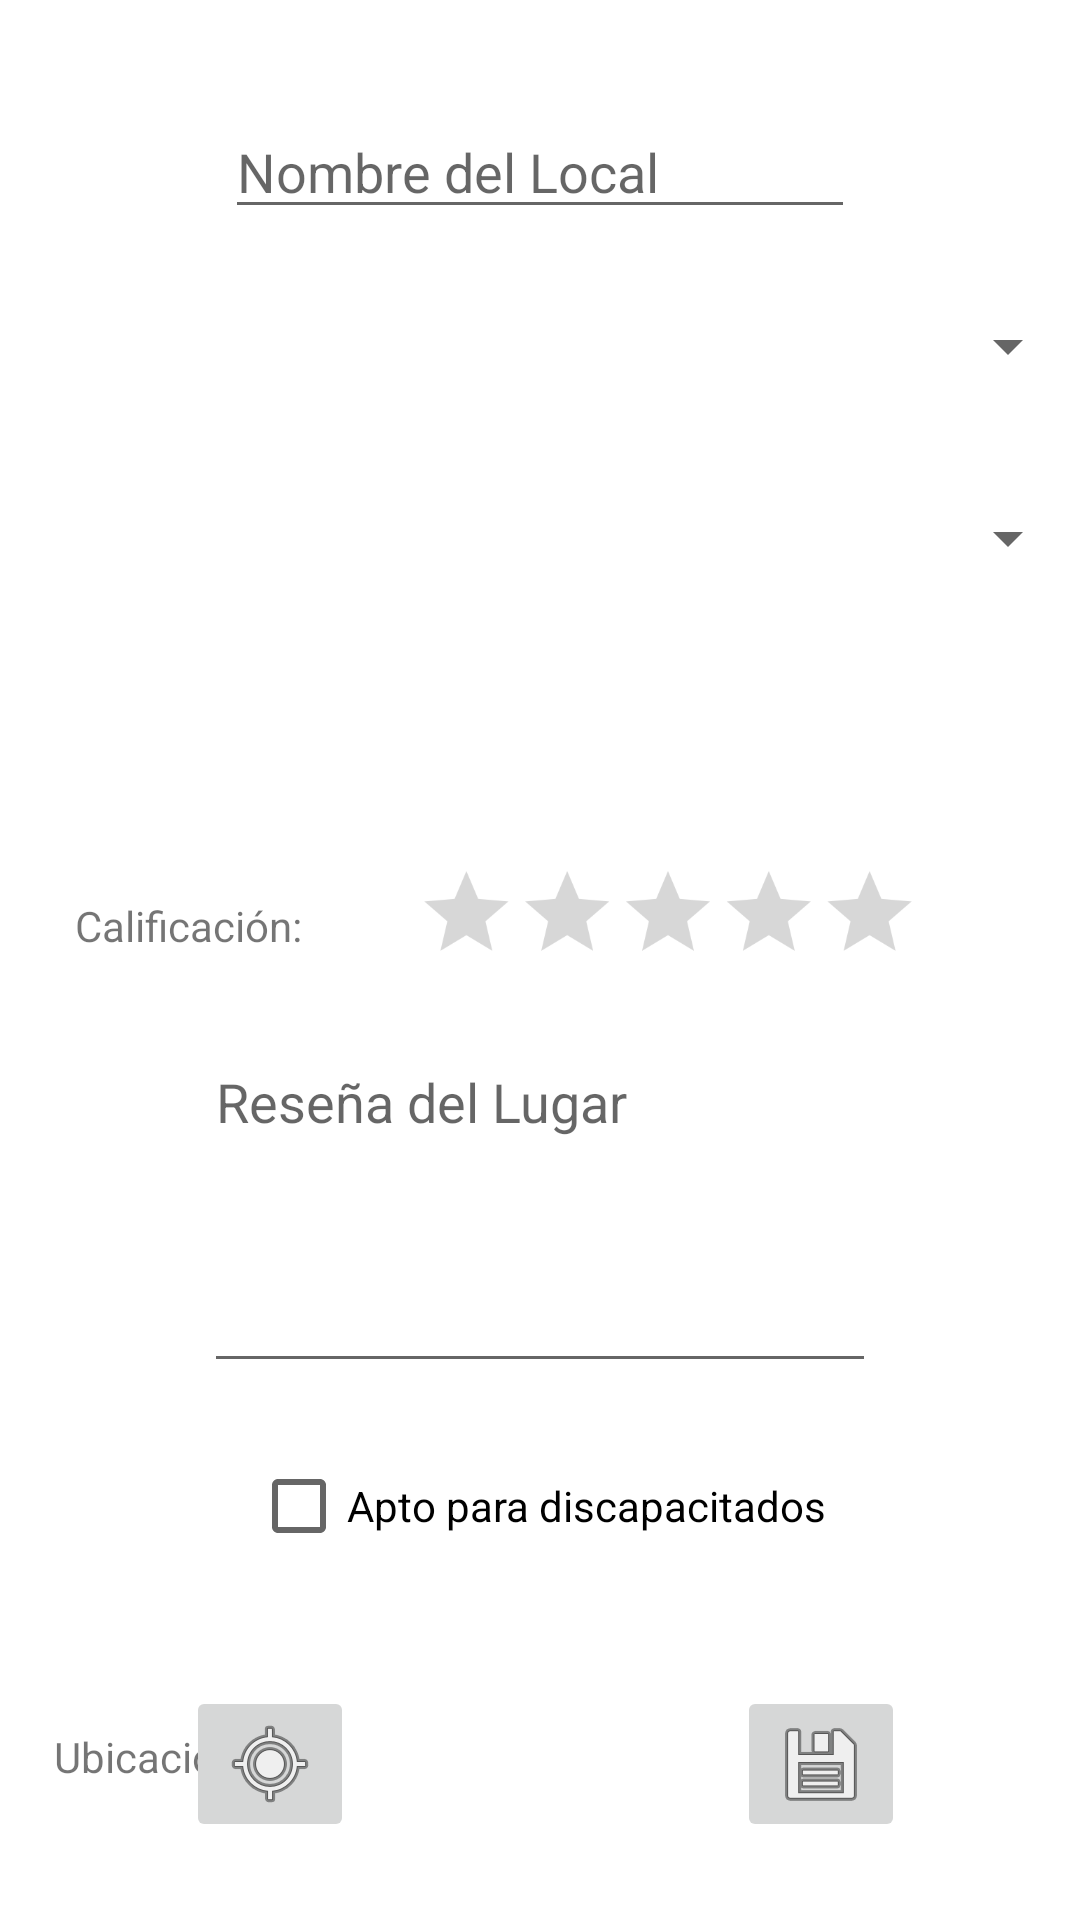

Named icons in this screenshot (1080w x 1920h) and their centers, (x=x, y=y):
mylocation: (x=264, y=1764)
save: (x=821, y=1764)
